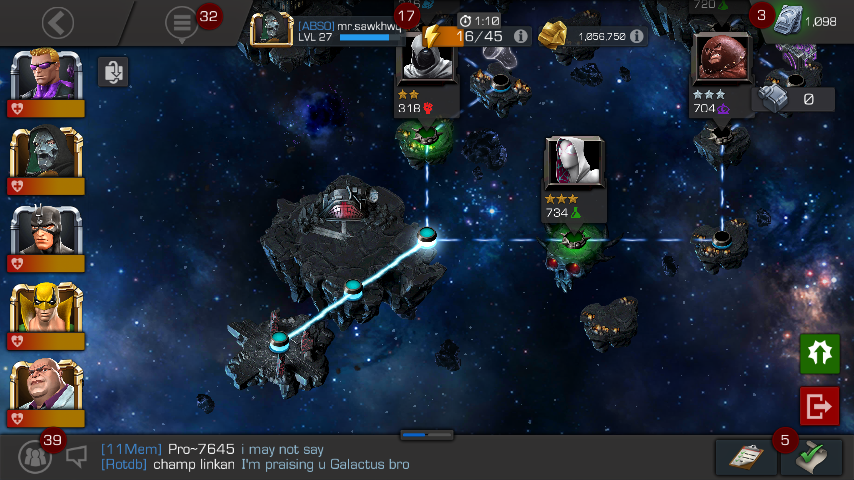green: (562, 231, 587, 249), (417, 127, 438, 141)
